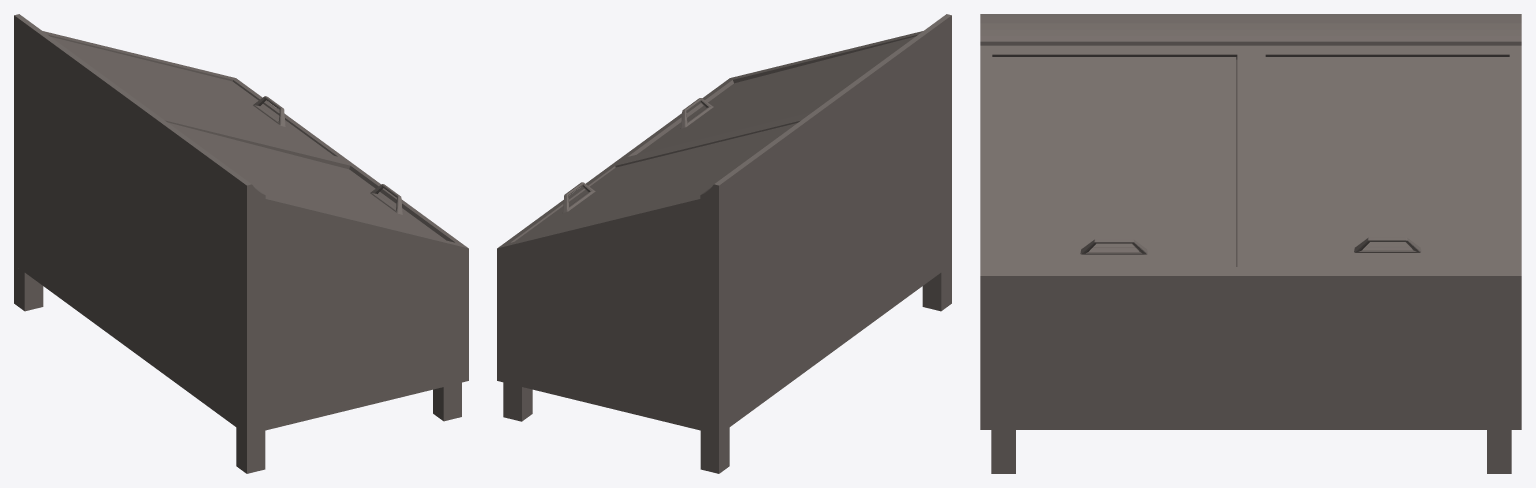
File: dumpster.fbx
3 renders of one model, left to right at view 1: azimuth 30°, elevation 25°; view 2: azimuth 150°, elevation 25°; view 3: azimuth 270°, elevation 25°, orthographic. The views are drawn at different scales.
Visible parts, largest first — view 1: Dumpster; view 2: Dumpster; view 3: Dumpster.
Part boxes in pixels (x1=…): Dumpster: x1=14, y1=14, x2=468, y2=473; Dumpster: x1=497, y1=14, x2=951, y2=473; Dumpster: x1=980, y1=14, x2=1521, y2=473.
Bounding box in the file's own units: 175 × 217 × 318.
Materials: 1 (1 with a texture image).
